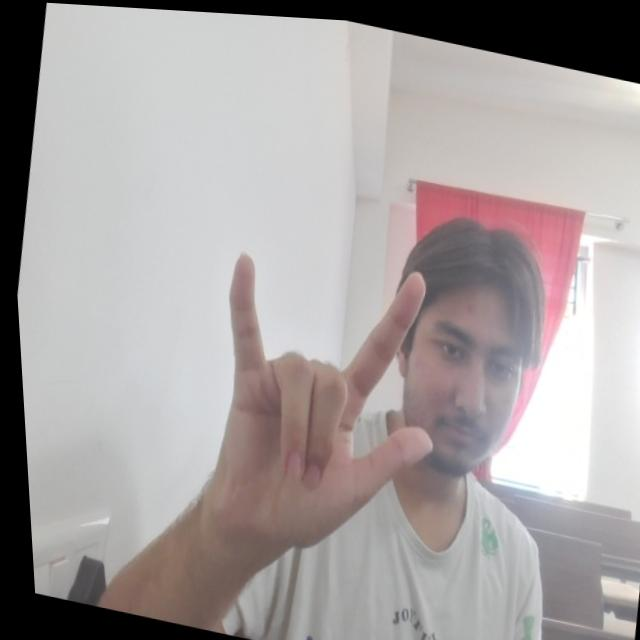iloveyou: (177, 220, 465, 578)
